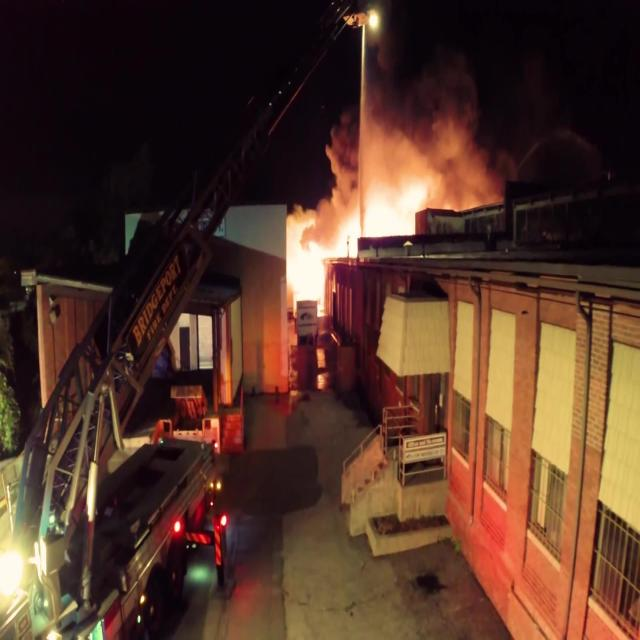Fire: (279, 168, 423, 328)
Smoke: (307, 48, 505, 238)
